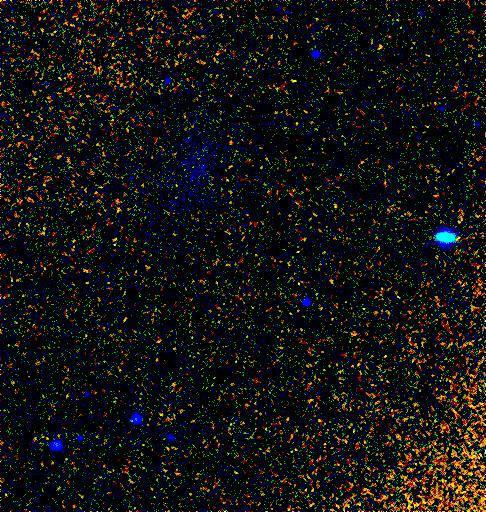star: (443, 223, 473, 253)
